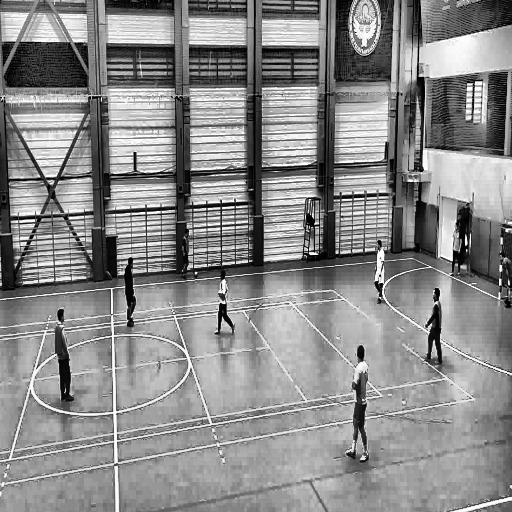ball: (192, 268, 202, 284)
player: (343, 344, 371, 466), (53, 308, 76, 404), (422, 288, 446, 369), (214, 269, 237, 338), (122, 257, 140, 333), (373, 236, 388, 306), (497, 250, 512, 309), (450, 222, 463, 284), (178, 225, 192, 282)
